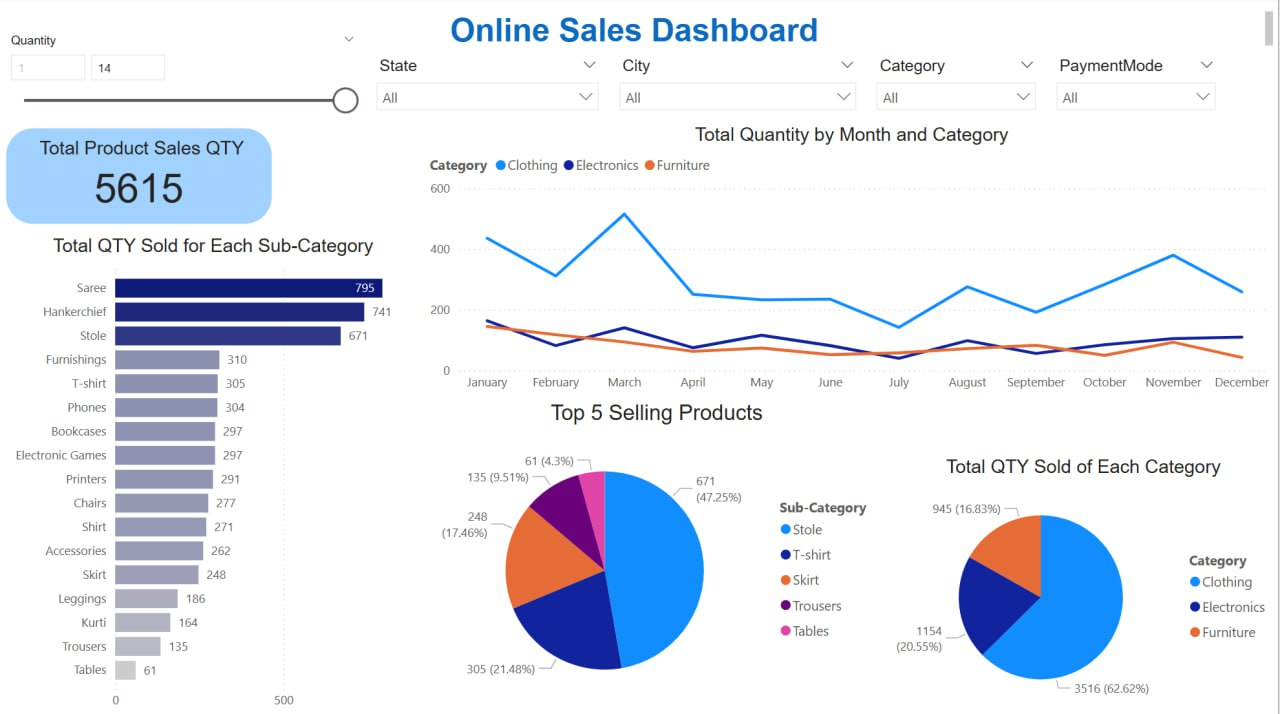

What the dashboard file says about the page in this screenshot:
{"tool":"powerbi","page":{"name":"Product Sales Overview","canvas":[1280,720],"ordinal":0},"visuals":[{"type":"clusteredBarChart","title":"Total QTY Sold for Each Sub-Category","fields":{"Category":["Details.Sub-Category"],"Y":["Sum(Details.Quantity)"]},"box":[4.9,238.6,419.5,483.7],"z":0},{"type":"card","title":"Total Product Sales QTY","fields":{"Values":["Product.Total Quantity"]},"box":[5,128.8,271.2,101.2],"z":1000},{"type":"slicer","fields":{"Values":["Details.Quantity"]},"box":[0,32.9,368.5,90.5],"z":2000},{"type":"slicer","fields":{"Values":["Details.Category"]},"box":[869,56.1,179,72.8],"z":3000},{"type":"textbox","box":[0,10,1280,45.4],"z":4000},{"type":"pieChart","title":"Total QTY Sold of Each Category","fields":{"Category":["Details.Category"],"Y":["Sum(Details.Quantity)"]},"box":[890.1,460.7,391.6,261.6],"z":5000},{"type":"pieChart","title":"Top 5 Selling Products","fields":{"Y":["Product.Total Quantity"],"Category":["Details.Sub-Category"]},"box":[426.1,404.7,464,315.9],"z":6000},{"type":"areaChart","fields":{"Y":["Product.Total Quantity"],"Category":["Orders.Parsed Order Date.Variation.Date Hierarchy.Month"],"Series":["Product.Category"]},"box":[426.1,128.3,853.9,276.4],"z":7000},{"type":"slicer","fields":{"Values":["Orders.State"]},"box":[368.5,55.9,241.9,72.4],"z":8000},{"type":"slicer","fields":{"Values":["Orders.City"]},"box":[612,55.9,256.7,72.4],"z":9000},{"type":"slicer","fields":{"Values":["Details.PaymentMode"]},"box":[1048,56.1,179,72.8],"z":9001}]}

Visuals, with their boxes in screenshot pixels (x1, y1, x2, y2), scaled from the page's 1280x720 canvas onto the 1280x714 screenshot:
"Total QTY Sold for Each Sub-Category" clusteredBarChart: box(5, 237, 424, 713)
"Total Product Sales QTY" card: box(5, 128, 276, 228)
slicer - Details.Quantity: box(0, 33, 368, 122)
slicer - Details.Category: box(869, 56, 1048, 128)
textbox: box(0, 10, 1279, 55)
"Total QTY Sold of Each Category" pieChart: box(890, 457, 1279, 713)
"Top 5 Selling Products" pieChart: box(426, 401, 890, 713)
areaChart - Product.Total Quantity x Orders.Parsed Order Date.Variation.Date Hierarchy.Month: box(426, 127, 1279, 401)
slicer - Orders.State: box(368, 55, 610, 127)
slicer - Orders.City: box(612, 55, 869, 127)
slicer - Details.PaymentMode: box(1048, 56, 1227, 128)
